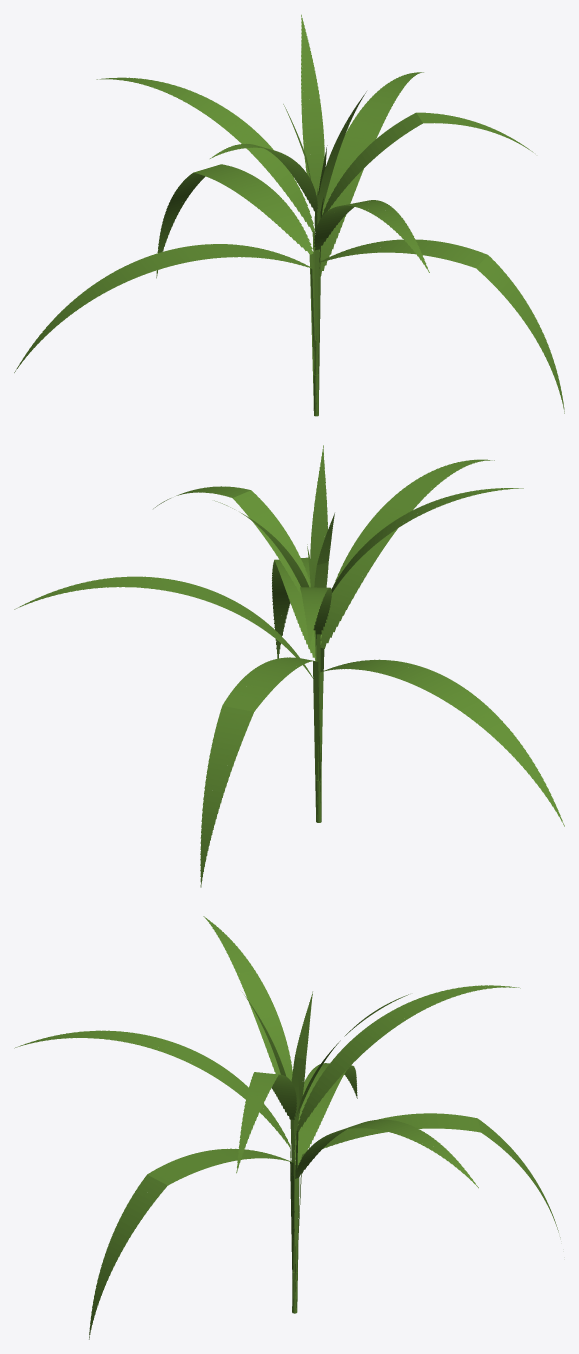
Rendered from maize_004_day_080.dae.
3 views of the same model, one above another, from view 1: azimuth 30°, elevation 25°; view 2: azimuth 150°, elevation 25°; view 3: azimuth 270°, elevation 25° (orthographic). The views are drawn at different scales.
Parts seen in each view (by area): view 1: node; view 2: node; view 3: node.
Part boxes in pixels (left/top/right/bottom): node: left=14, top=14, right=564, bottom=416; node: left=14, top=445, right=564, bottom=887; node: left=14, top=916, right=560, bottom=1339.
Size of the model in its own units: 1.36 by 0.9468 by 1.39.
1 material, 1 textured.
